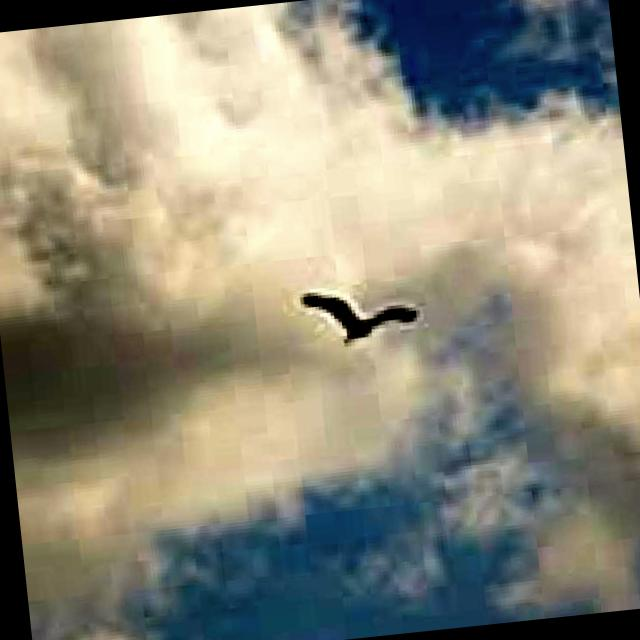bird: (300, 280, 420, 350)
